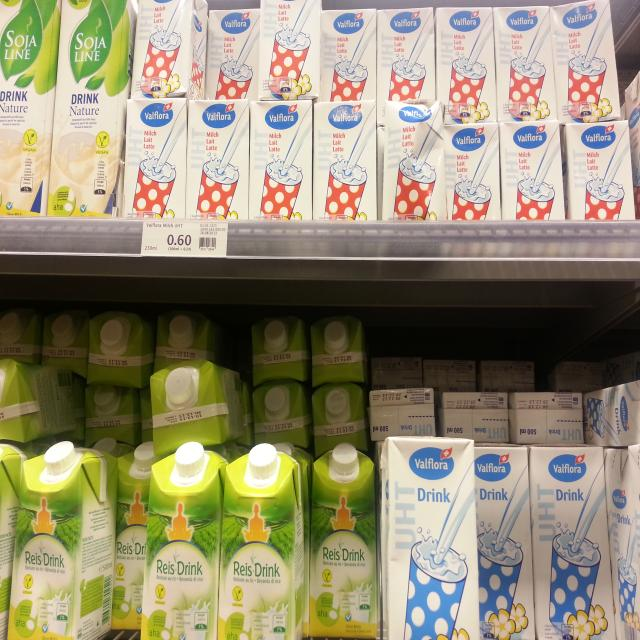Milk: (6, 435, 110, 640), (50, 0, 140, 222), (381, 435, 478, 640), (216, 441, 305, 640), (528, 443, 615, 640), (144, 441, 224, 640), (0, 0, 63, 220), (311, 444, 380, 640), (468, 440, 532, 640), (548, 2, 620, 120), (132, 0, 209, 99), (248, 99, 311, 220), (114, 441, 153, 634), (563, 121, 638, 221), (313, 103, 377, 220), (151, 358, 239, 442), (187, 100, 249, 219), (495, 5, 558, 122), (124, 99, 186, 216), (384, 106, 446, 223), (435, 8, 496, 125), (498, 121, 567, 221), (605, 445, 640, 640), (260, 0, 321, 98), (376, 10, 436, 107), (442, 126, 502, 220), (320, 10, 376, 101), (207, 7, 260, 98), (86, 310, 149, 386), (309, 314, 367, 388), (580, 379, 640, 448), (248, 317, 308, 382), (509, 394, 586, 444), (250, 382, 308, 448), (84, 384, 143, 448), (39, 311, 92, 380), (441, 387, 508, 440), (308, 387, 364, 450), (367, 387, 433, 439), (157, 308, 213, 366)
